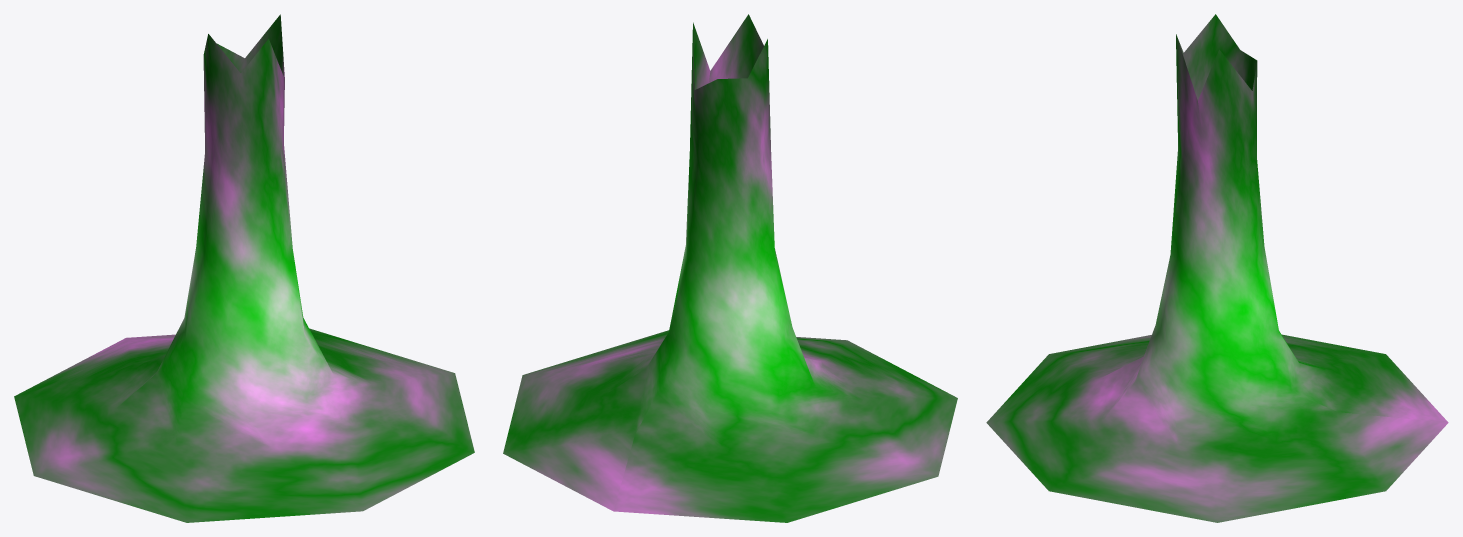
File: FX_Cure.FBX
The picture shows the model from 3 angles, left to right: view 1: azimuth 30°, elevation 25°; view 2: azimuth 150°, elevation 25°; view 3: azimuth 270°, elevation 25°; orthographic projection. The views are drawn at different scales.
Parts seen in each view (by area): view 1: FX_Cure; view 2: FX_Cure; view 3: FX_Cure.
Boxes of the visible parts, x1,y1,x2,y2 form: FX_Cure: (14, 14, 474, 522); FX_Cure: (503, 14, 957, 522); FX_Cure: (986, 14, 1448, 522).
Bounding box in the file's own units: 330 × 300 × 321.
Materials: 1 (1 with a texture image).
